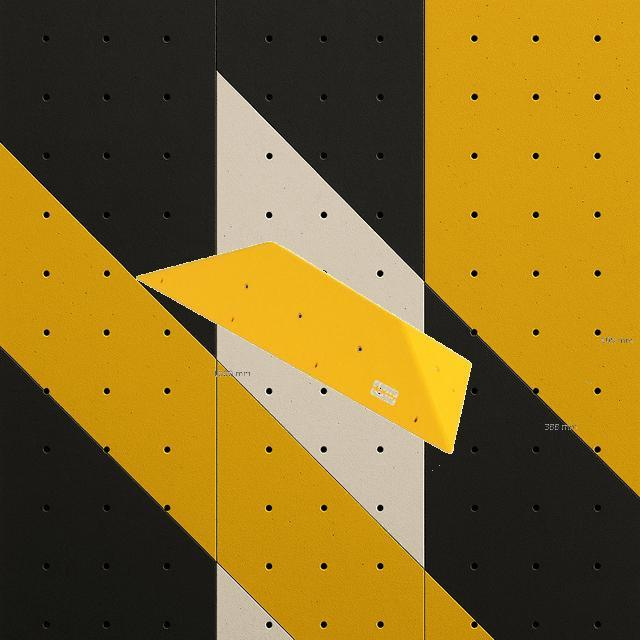Volume: (134, 240, 472, 456)
